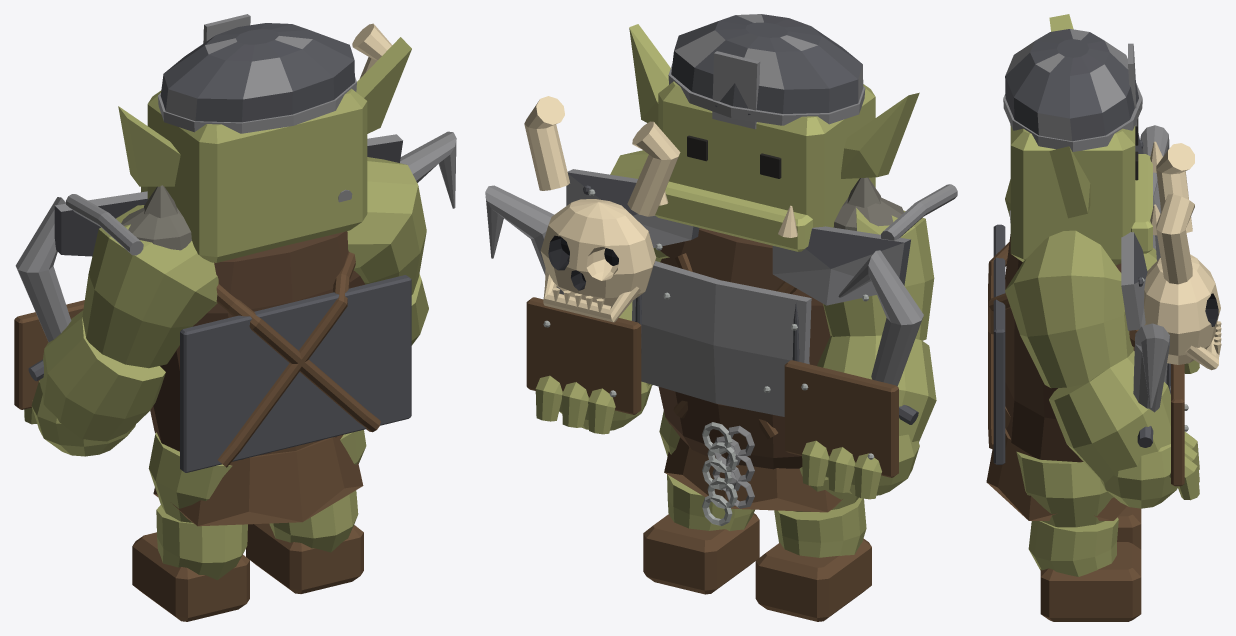
File: host_11.glb
3 renders of one model, left to right at view 1: azimuth 30°, elevation 25°; view 2: azimuth 150°, elevation 25°; view 3: azimuth 270°, elevation 25°, orthographic. The views are drawn at different scales.
Visible parts, largest first — view 1: V6 source contacting small rear armor plate, Observed face, V6 source fitted rounded metal cap, V6 source anatomical upper arm L, Leather ragged skirt, V6 source anatomical forearm L, V6 source anatomical thorax, V6 source anatomical upper arm R, V6 source actual visible fitted brown crossed rear carrying  (×2), Grounded boot L, Grounded boot R, V6 source anatomical shin L (+17 smaller); view 2: V6 source curved fitted breastplate, Observed face, V6 source fitted rounded metal cap, V6 source anatomical thorax, V6 detail hookbearer fitted source leather wrist plate, V6 detail hookbearer fitted source leather wrist plate.001, V6 hookbearer source huge shoulder skull actual carved crani, Grounded boot L, Grounded boot R, V6 source angled fitted shoulder plate L, Orc broad jaw, Leather ragged skirt (+26 smaller); view 3: V6 source anatomical upper arm R, V6 source fitted rounded metal cap, Observed face, V6 source anatomical forearm R, V6 source anatomical thorax, Grounded boot R, V6 hookbearer source huge shoulder skull actual carved crani, V6 source anatomical thigh R, V6 source anatomical shin R, V6 source contacting small rear armor plate, V6 source anatomical palm R, Leather ragged skirt (+15 smaller).
Boxes of the visible parts, <box> form: V6 source contacting small rear armor plate: <box>180,275,411,472</box>; Observed face: <box>147,88,367,262</box>; V6 source fitted rounded metal cap: <box>160,23,354,122</box>; V6 source anatomical upper arm L: <box>82,205,218,368</box>; Leather ragged skirt: <box>153,434,363,526</box>; V6 source anatomical forearm L: <box>40,310,165,441</box>; V6 source anatomical thorax: <box>150,231,364,459</box>; V6 source anatomical upper arm R: <box>347,157,426,294</box>; V6 source actual visible fitted brown crossed rear carrying  (×2): <box>216,252,380,467</box>; Grounded boot L: <box>132,532,249,621</box>; Grounded boot R: <box>246,523,363,593</box>; V6 source anatomical shin L: <box>156,505,247,580</box>; V6 source curved fitted breastplate: <box>631,261,811,416</box>; Observed face: <box>658,81,875,227</box>; V6 source fitted rounded metal cap: <box>671,14,863,113</box>; V6 source anatomical thorax: <box>658,228,830,469</box>; V6 detail hookbearer fitted source leather wrist plate: <box>784,360,898,477</box>; V6 detail hookbearer fitted source leather wrist plate.001: <box>526,297,641,414</box>; V6 hookbearer source huge shoulder skull actual carved crani: <box>540,199,656,306</box>; Grounded boot L: <box>755,538,871,621</box>; Grounded boot R: <box>643,513,759,594</box>; V6 source angled fitted shoulder plate L: <box>772,226,910,305</box>; Orc broad jaw: <box>655,181,812,251</box>; Leather ragged skirt: <box>664,437,842,512</box>; V6 source anatomical upper arm R: <box>1005,230,1133,388</box>; V6 source fitted rounded metal cap: <box>1005,29,1138,141</box>; Observed face: <box>1010,125,1135,265</box>; V6 source anatomical forearm R: <box>1049,351,1170,483</box>; V6 source anatomical thorax: <box>1005,234,1134,462</box>; Grounded boot R: <box>1040,542,1141,621</box>; V6 hookbearer source huge shoulder skull actual carved crani: <box>1144,254,1220,364</box>; V6 source anatomical thigh R: <box>1016,451,1113,527</box>; V6 source anatomical shin R: <box>1028,517,1118,576</box>; V6 source contacting small rear armor plate: <box>993,224,1005,464</box>; V6 source anatomical palm R: <box>1100,444,1177,508</box>; Leather ragged skirt: <box>986,428,1128,520</box>.
Size of the model in its own units: 1.59 by 1.93 by 0.772.
